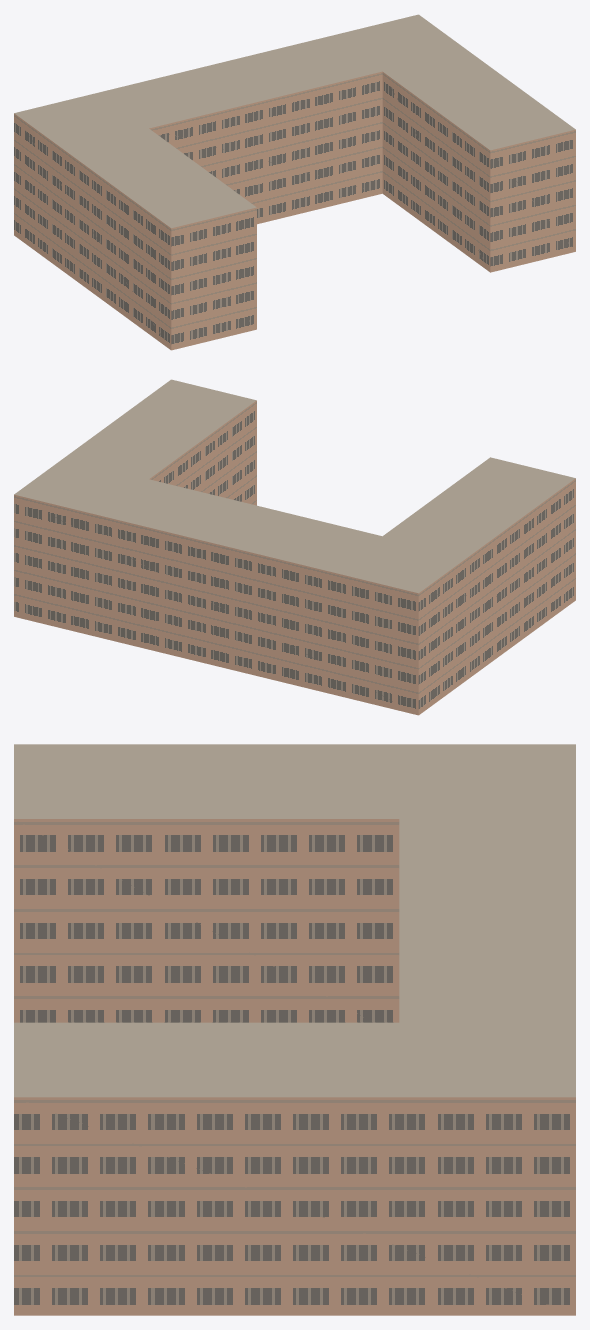
The model's file is u-shaped-wing.glb.
3 renders of one model, top to bottom at view 1: azimuth 30°, elevation 25°; view 2: azimuth 150°, elevation 25°; view 3: azimuth 270°, elevation 25°, orthographic. The views are drawn at different scales.
Parts seen in each view (by area): view 1: U-shaped wing; view 2: U-shaped wing; view 3: U-shaped wing.
Boxes of the visible parts, x1,y1,x2,y2 form: U-shaped wing: (14, 14, 575, 350); U-shaped wing: (14, 379, 575, 715); U-shaped wing: (14, 744, 575, 1315).
Bounding box in the file's own units: 52 × 15 × 35.
2 materials, 1 textured.
